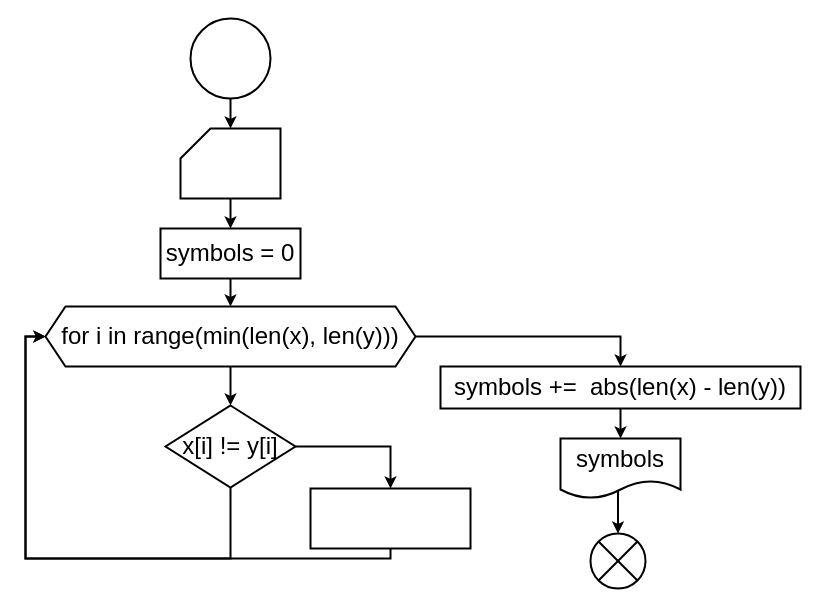
Some shapes in this 818 by 606 pixel diagram are drawn without their labels. Here are the shapes that lost their labels. From the top down, the centre of each, then its label:
At (x=230, y=163): "x,y".
At (x=390, y=518): "symbols+=1".
